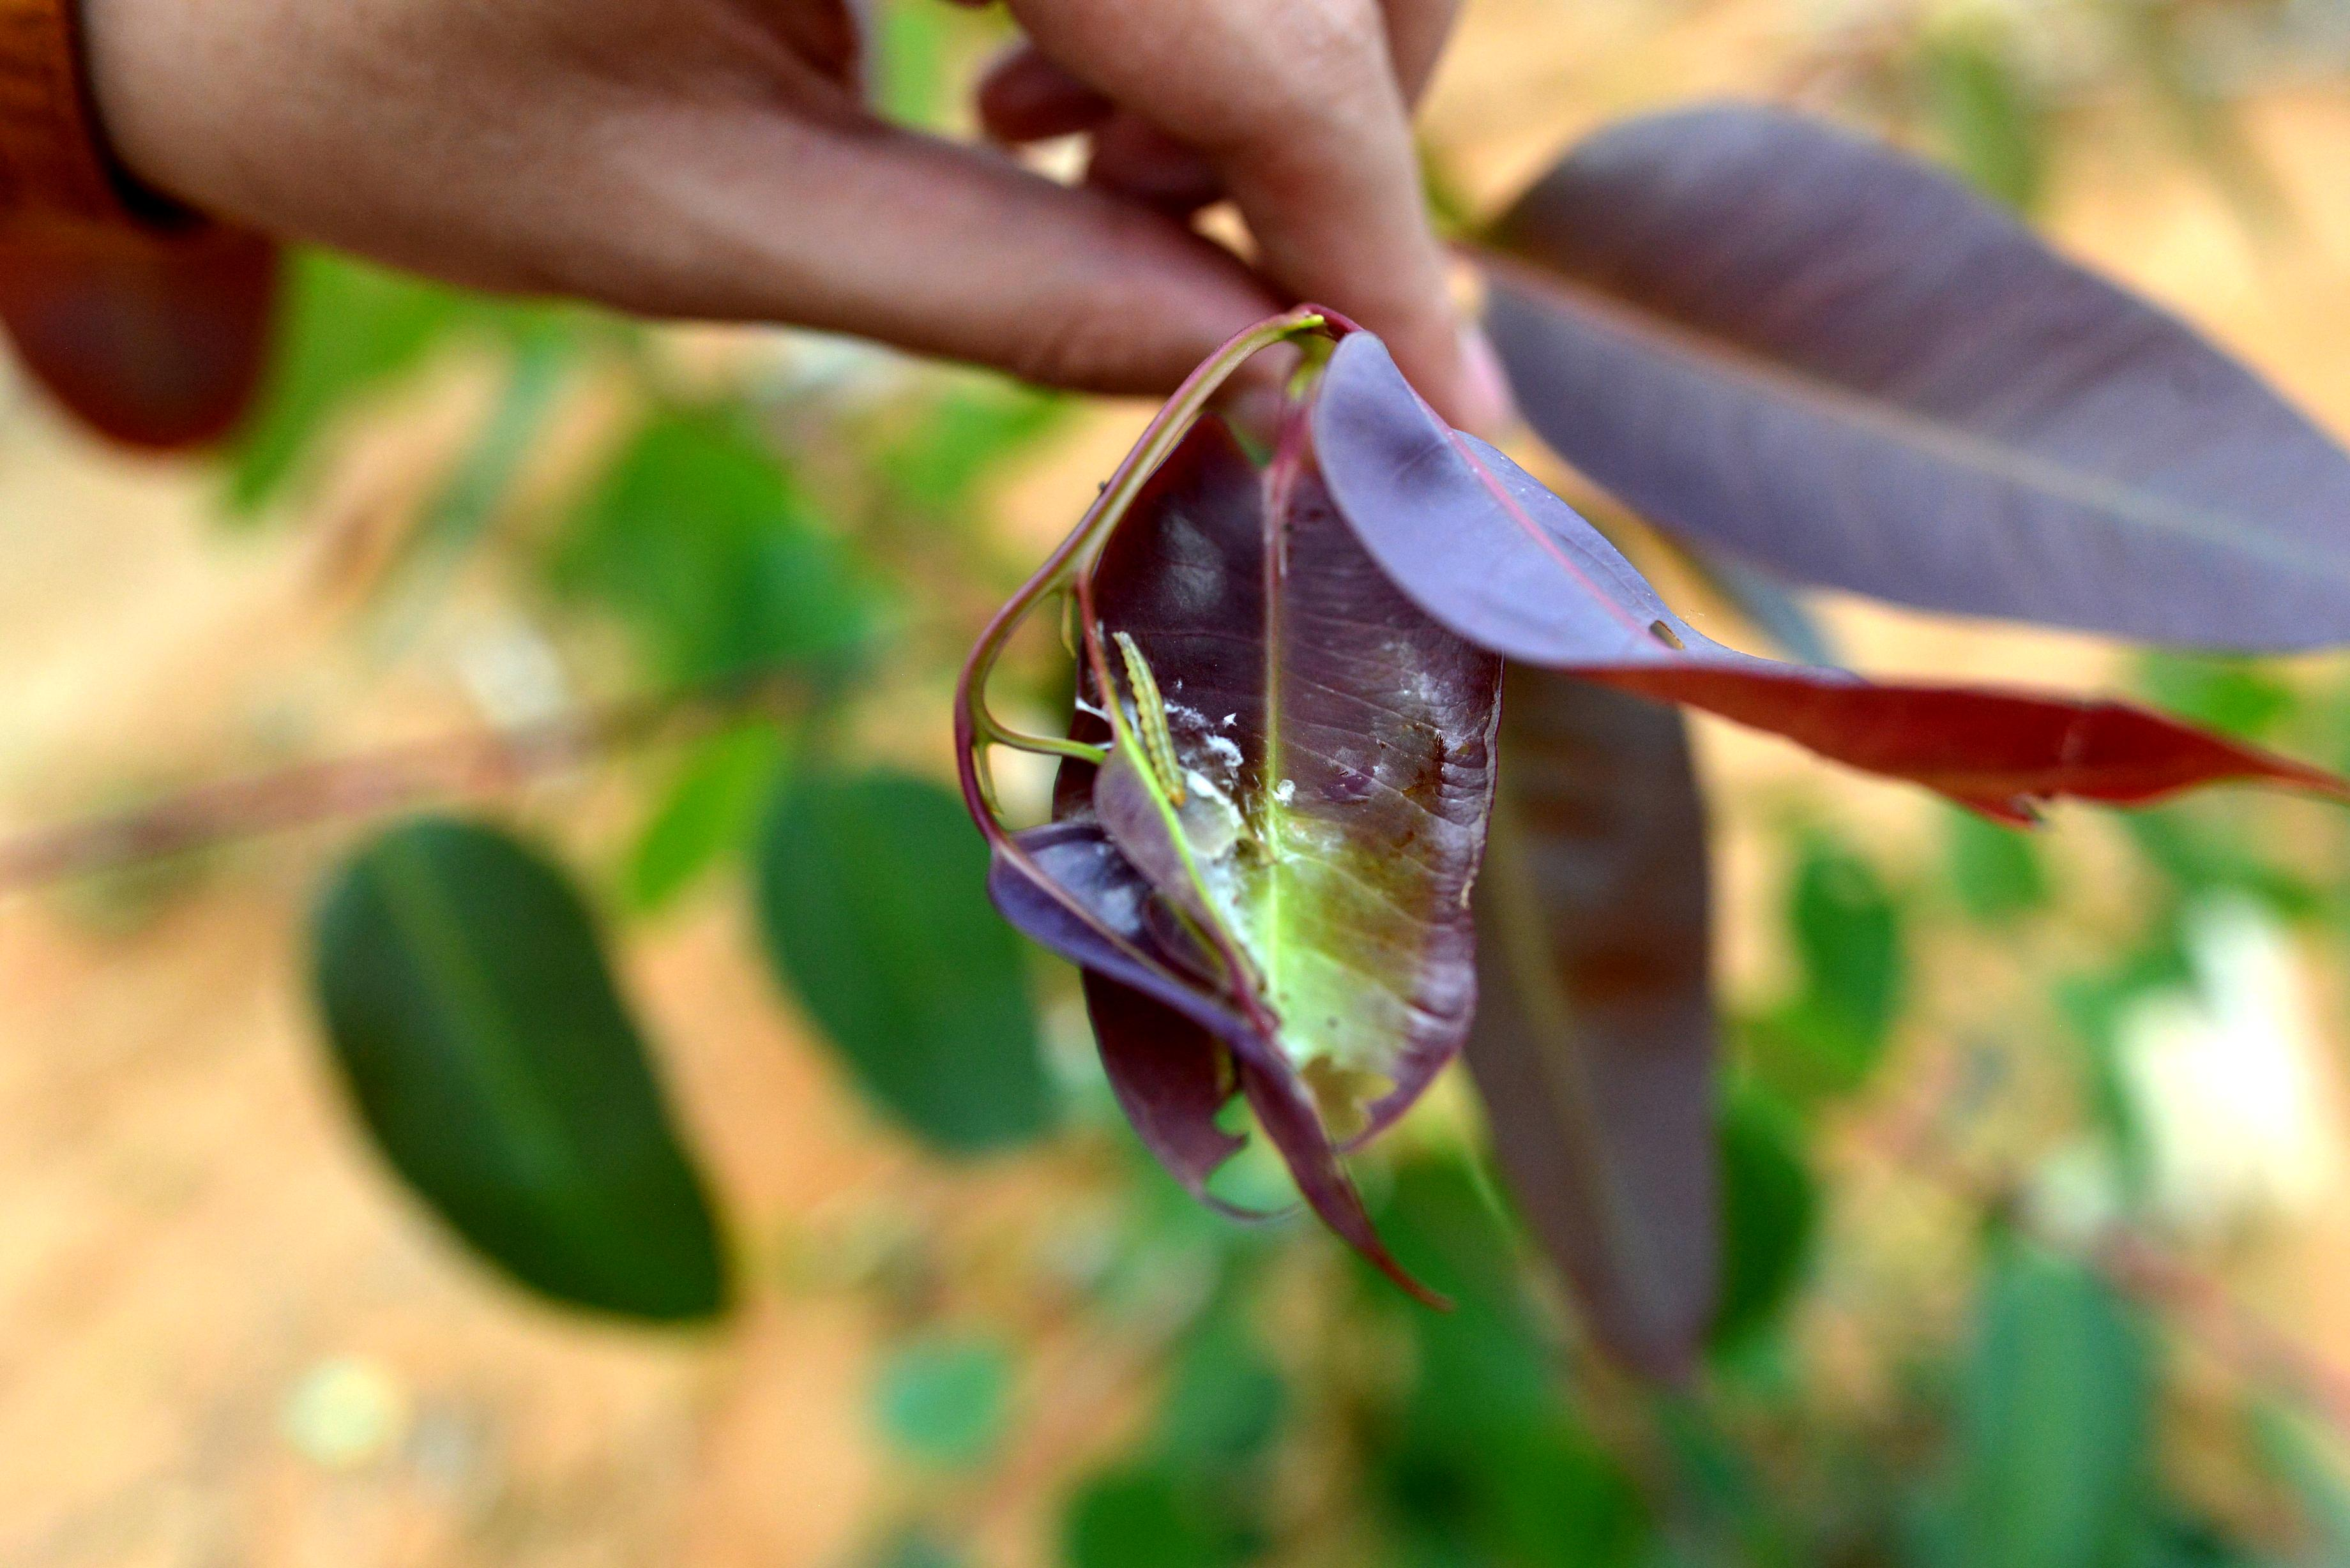Leaf Roller - Insect: (1092, 616, 1195, 803)
Leaf Roller - Leaf: (1223, 325, 2331, 793), (1067, 383, 1498, 1340), (1001, 747, 1265, 1251)
